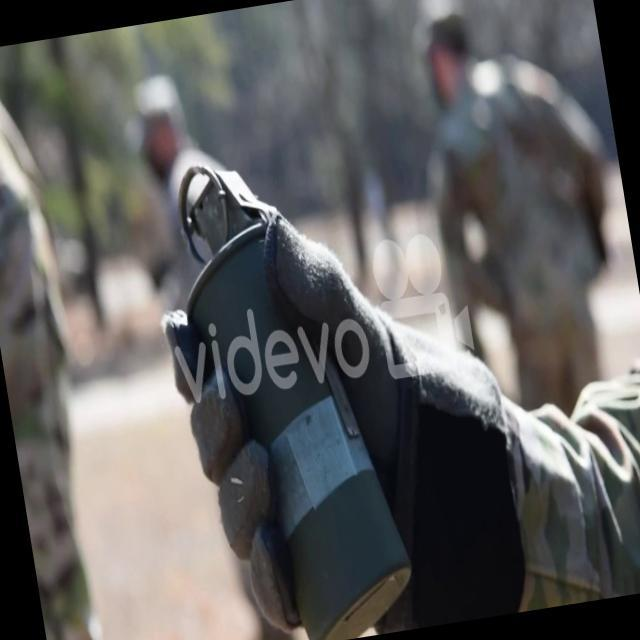grenade: (147, 133, 423, 640)
